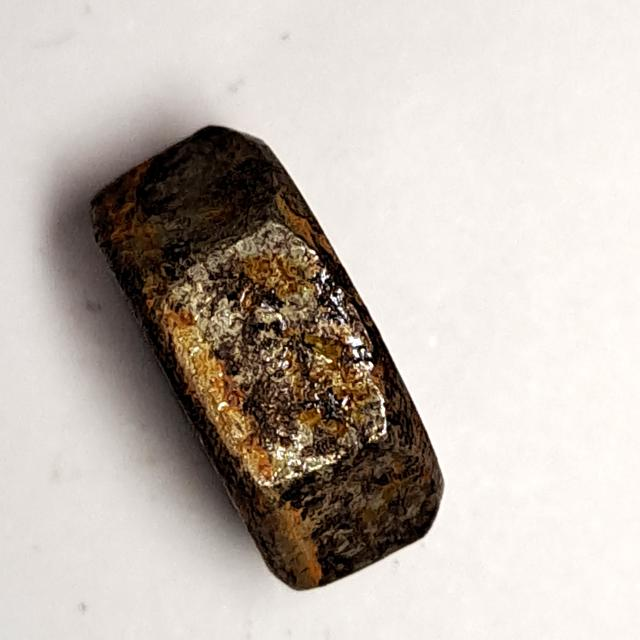Side_Rust: (66, 100, 480, 612)
